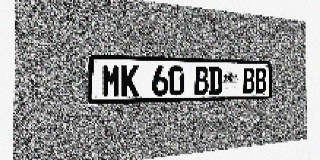0: (169, 66, 184, 96)
6: (152, 65, 168, 96)
B: (194, 66, 208, 95), (243, 67, 255, 94), (255, 68, 266, 94)
D: (209, 67, 222, 95)
K: (121, 65, 139, 97)
M: (102, 64, 120, 97)
